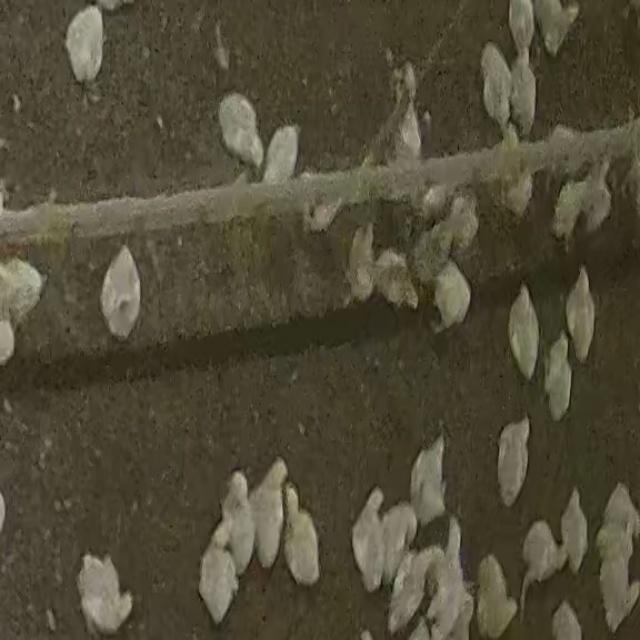chicken: (75, 551, 134, 635), (425, 533, 470, 639), (518, 517, 562, 616), (99, 244, 143, 340), (250, 460, 288, 569), (389, 548, 436, 634), (218, 92, 268, 170), (283, 489, 323, 586), (198, 535, 240, 626), (218, 472, 253, 577), (410, 434, 448, 528), (353, 489, 387, 591), (507, 284, 541, 384), (64, 3, 105, 85), (475, 556, 516, 638), (479, 40, 514, 134), (496, 417, 532, 508), (597, 546, 636, 630), (598, 484, 638, 564), (564, 267, 596, 365), (575, 158, 613, 240), (1, 256, 44, 326), (432, 260, 472, 334), (552, 175, 592, 246), (380, 505, 416, 583), (436, 192, 482, 253), (372, 248, 417, 310), (559, 490, 589, 574), (534, 1, 579, 55), (545, 335, 573, 421), (260, 124, 300, 184), (512, 46, 538, 132), (347, 224, 376, 300), (396, 101, 423, 162), (508, 0, 536, 53)
